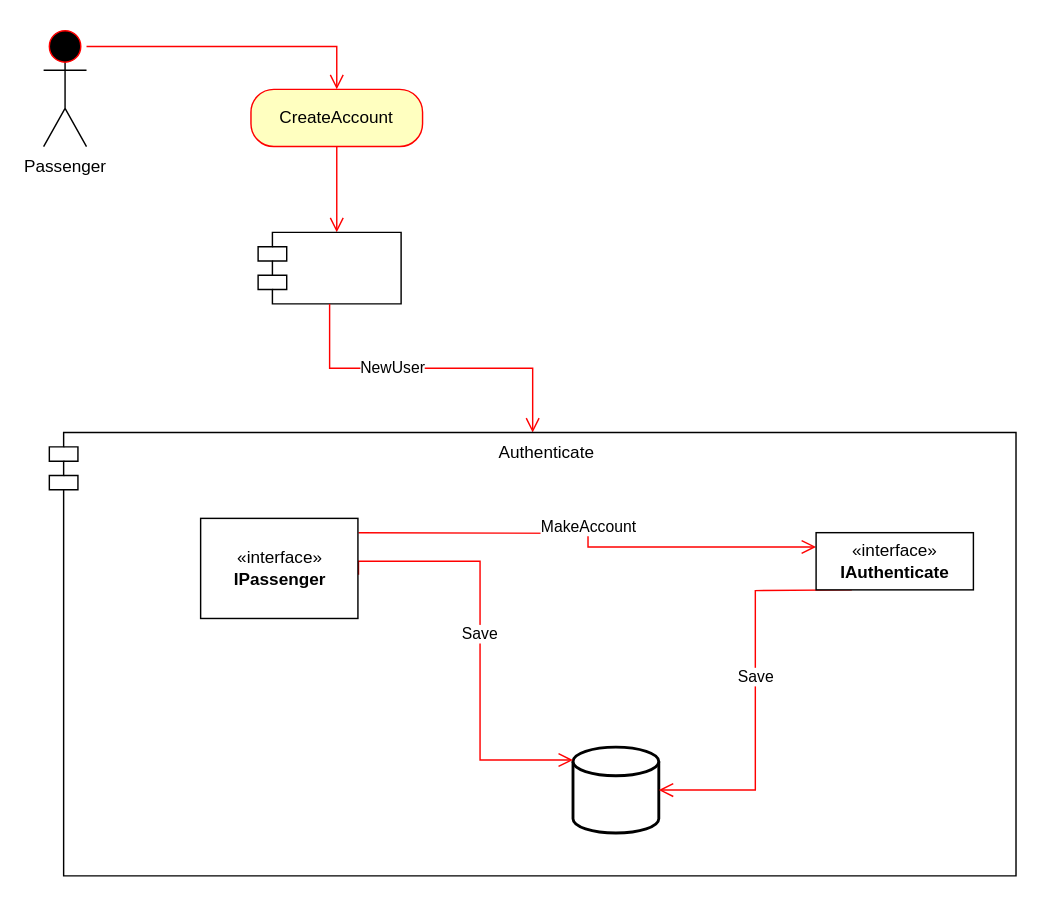
This 1041x901 diagram has some shape labels left out. Here are the shapes that lost their labels. From the top down, the centre of each, then its label:
the point at 329,267: WebUI
the point at 615,789: Accounts
